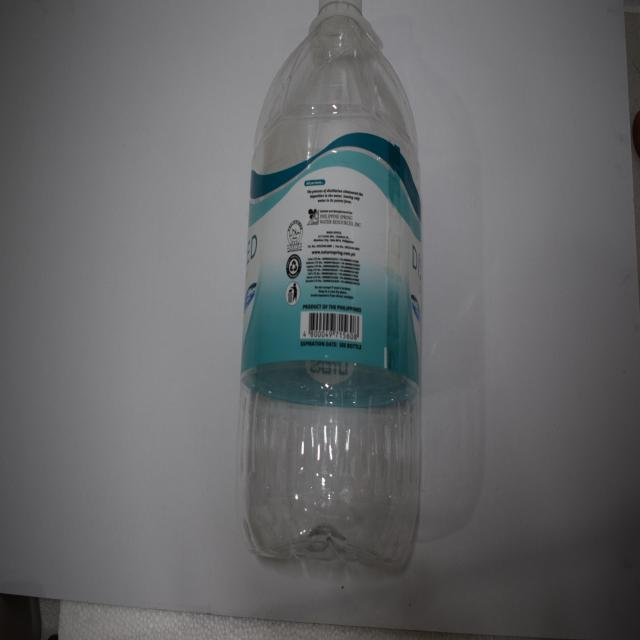plastic: (236, 0, 423, 574)
